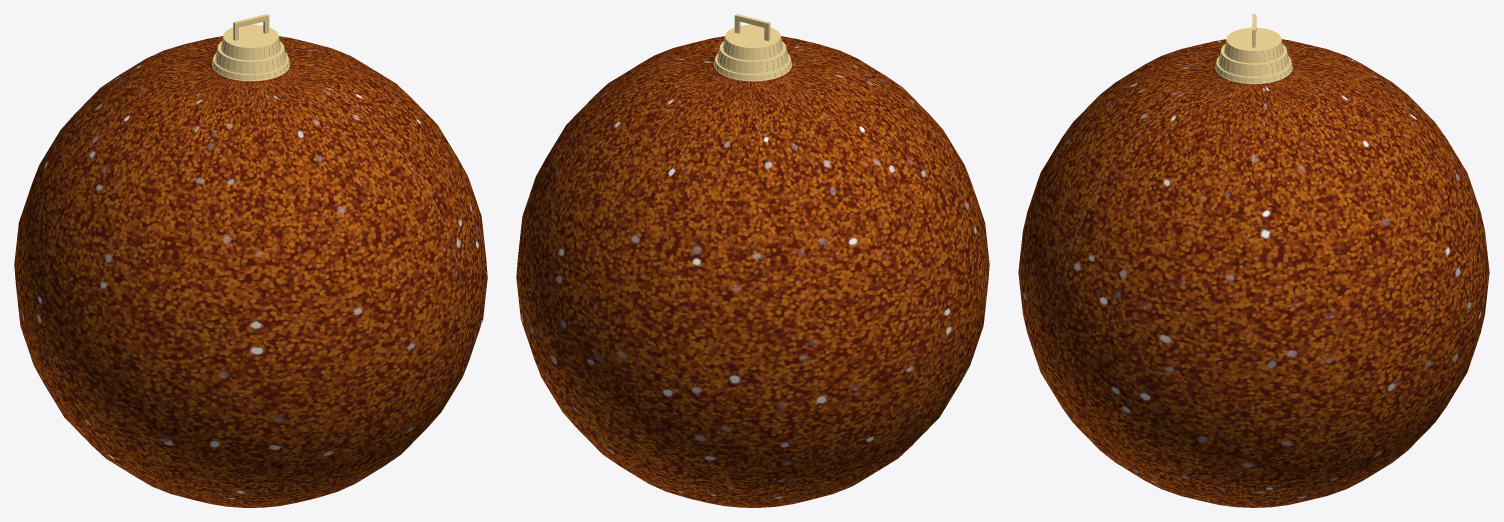
File: christmas_glitter_ball.glb
3 renders of one model, left to right at view 1: azimuth 30°, elevation 25°; view 2: azimuth 150°, elevation 25°; view 3: azimuth 270°, elevation 25°, orthographic.
Visible parts, largest first — view 1: Brown Christmas Ball_0; view 2: Brown Christmas Ball_0; view 3: Brown Christmas Ball_0.
Part boxes in pixels (x1,y1,x2,y2): Brown Christmas Ball_0: (14, 14, 487, 507); Brown Christmas Ball_0: (516, 14, 989, 507); Brown Christmas Ball_0: (1018, 14, 1489, 507).
Size of the model in its own units: 0.08 by 0.0869 by 0.08.
Materials: 1 (1 with a texture image).
